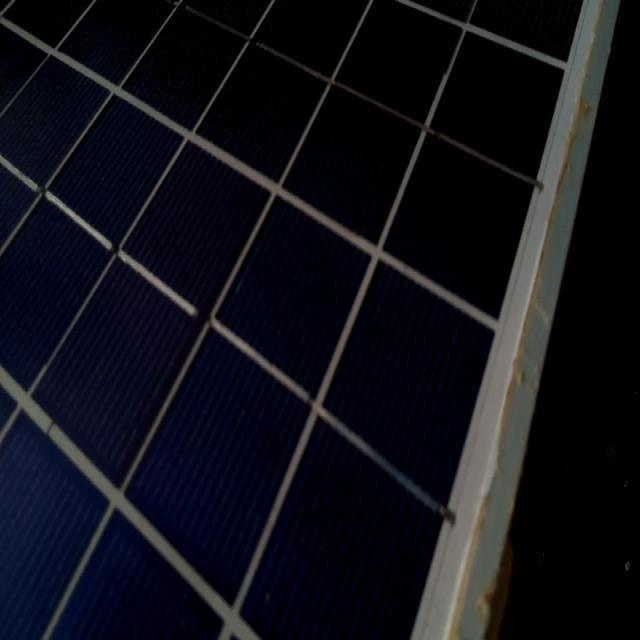Normal Solar Panel: (1, 0, 618, 640)
